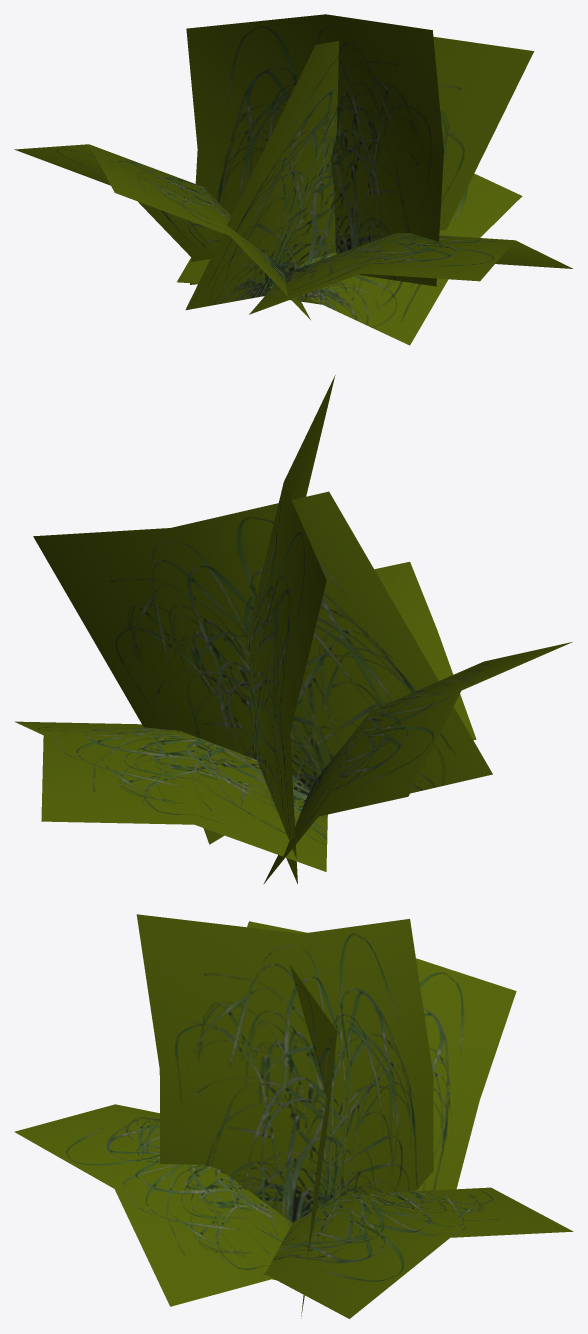
File: grass_02.fbx
The picture shows the model from 3 angles, top to bottom: view 1: azimuth 30°, elevation 25°; view 2: azimuth 150°, elevation 25°; view 3: azimuth 270°, elevation 25°; orthographic projection. The views are drawn at different scales.
Visible parts, largest first — view 1: Mesh Object; view 2: Mesh Object; view 3: Mesh Object.
Part boxes in pixels (left/top/right/bottom): Mesh Object: left=14, top=14, right=572, bottom=345; Mesh Object: left=14, top=375, right=572, bottom=884; Mesh Object: left=14, top=914, right=573, bottom=1318.
Bounding box in the file's own units: 41.09 × 30.57 × 40.78.
